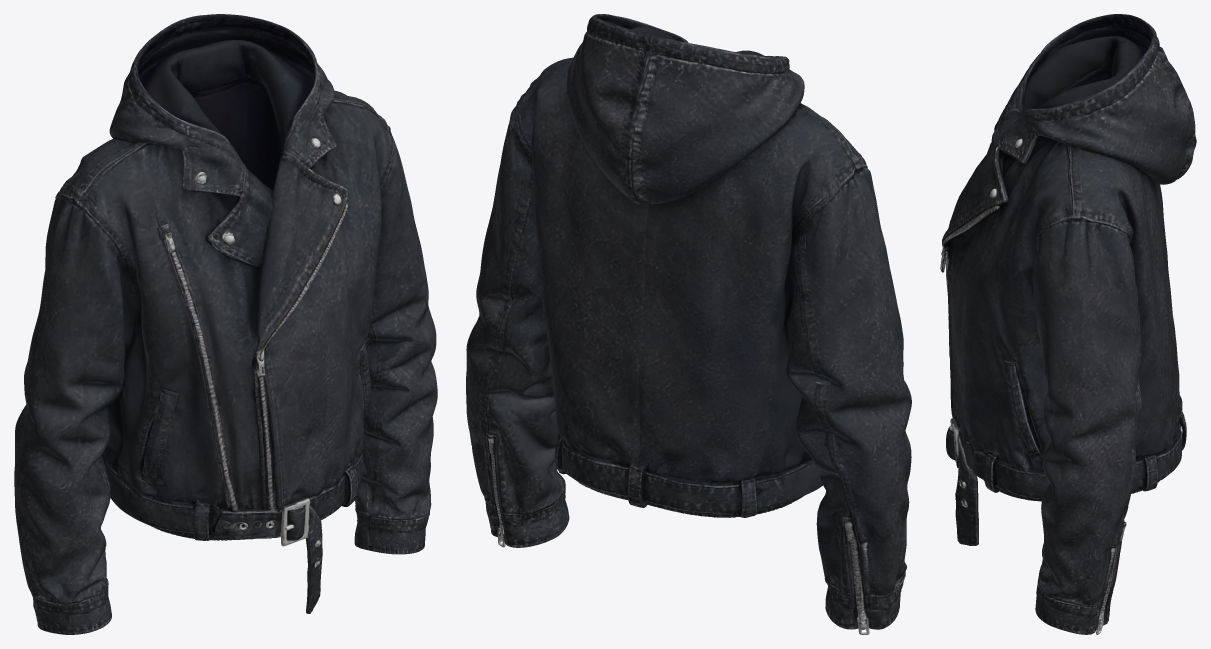
Rendered from jacket-biker.glb.
3 views of the same model, side by side, from view 1: azimuth 30°, elevation 25°; view 2: azimuth 150°, elevation 25°; view 3: azimuth 270°, elevation 25° (orthographic). The views are drawn at different scales.
Visible parts, largest first — view 1: tripo_node_1a375d2c-7dd4-49b4-8883-be79ed1c8183; view 2: tripo_node_1a375d2c-7dd4-49b4-8883-be79ed1c8183; view 3: tripo_node_1a375d2c-7dd4-49b4-8883-be79ed1c8183.
Part boxes in pixels (box(x1,y1,x2,y2)): tripo_node_1a375d2c-7dd4-49b4-8883-be79ed1c8183: box(14, 14, 437, 634); tripo_node_1a375d2c-7dd4-49b4-8883-be79ed1c8183: box(466, 14, 911, 634); tripo_node_1a375d2c-7dd4-49b4-8883-be79ed1c8183: box(940, 14, 1196, 634).
Size of the model in its own units: 0.5663 by 0.7265 by 0.3247.
1 material, 1 textured.
